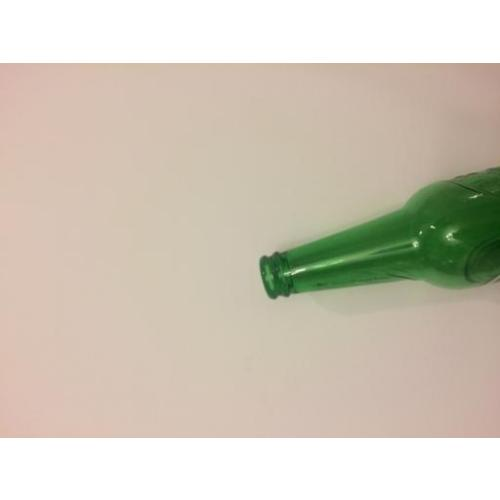glass: (262, 166, 499, 297)
